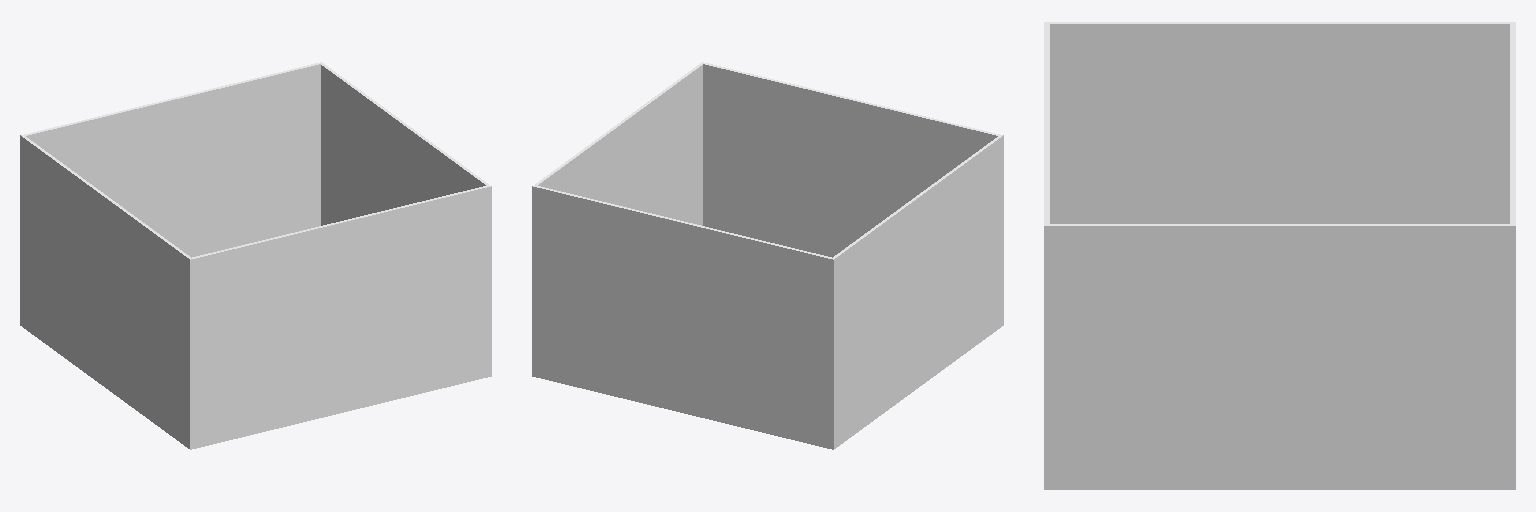
URDF robot description (fence):
<?xml version="1.0" ?>
<robot name="fence">
  <link name="baseLink">
    <contact>
      <lateral_friction value="1.0"/>
      <rolling_friction value="0.0"/>
      <contact_cfm value="0.0"/>
      <contact_erp value="1.0"/>
    </contact>
    <inertial>
      <origin rpy="0 0 0" xyz="0 0 0"/>
       <mass value="0"/>
       <inertia ixx="1" ixy="0" ixz="0" iyy="1" iyz="0" izz="1"/>
    </inertial>
    <visual>
      <origin rpy="0 0 0" xyz="0 0 0"/>
      <geometry>
		    <mesh filename="fence.obj" scale="1 1 1"/>
      </geometry>
      <material name="white">
        <color rgba="1 1 1 1"/>
      </material>
    </visual>
    <collision concave="yes">
      <origin rpy="0 0 0" xyz="0 0 0"/>
      <geometry>
	      <mesh filename="fence.obj" scale="1 1 1"/>
      </geometry>
    </collision>
  </link>
</robot>

--- What the picture shows (computed from the rendered views, not written in the file) ---
The picture shows the robot from 3 angles, left to right: view 1: azimuth 30°, elevation 25°; view 2: azimuth 150°, elevation 25°; view 3: azimuth 270°, elevation 25°; orthographic projection.
Robot: fence — 1 links, 0 joints (none); root link baseLink; default pose: all joints at 0.
Links seen in each view (by area): view 1: baseLink; view 2: baseLink; view 3: baseLink.
Boxes of the visible links, left/top/right/bottom form: baseLink: left=20, top=62, right=491, bottom=449; baseLink: left=532, top=62, right=1003, bottom=449; baseLink: left=1044, top=22, right=1515, bottom=489.
Bounding box of the posed robot: 4.14 × 4.04 × 2.5 m (x, y, z).
Meshes: 1 distinct files referenced, 1 mesh visuals loaded (1 OBJ).
